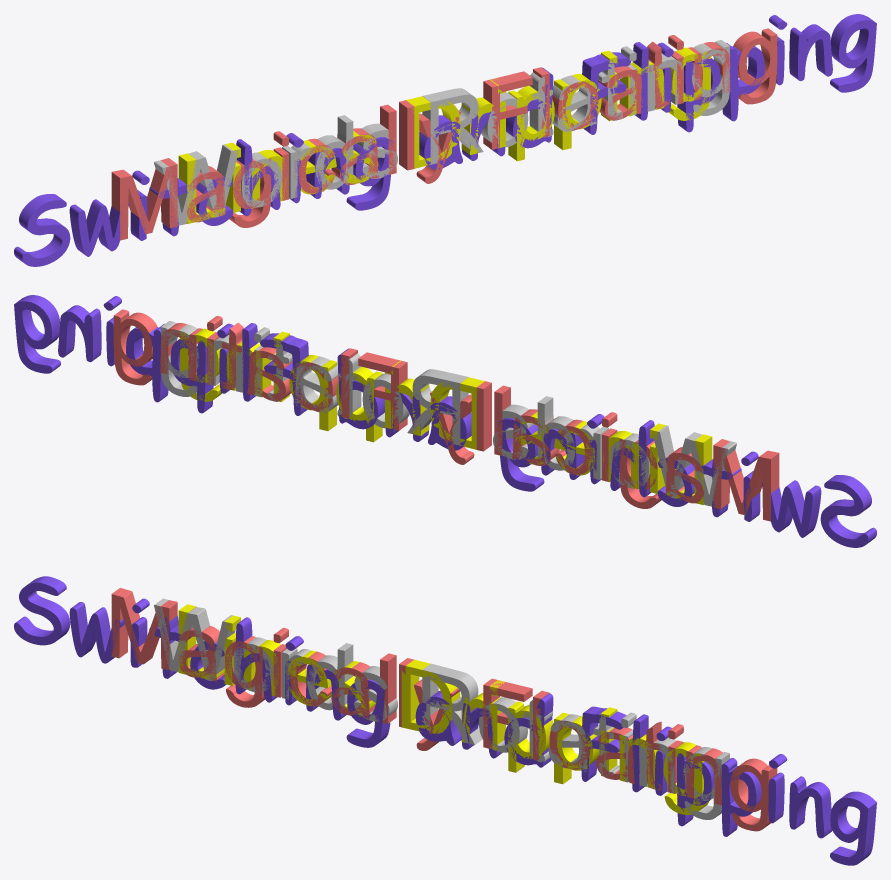
The model's file is mashedwords.glb.
The picture shows the model from 3 angles, top to bottom: view 1: azimuth 30°, elevation 25°; view 2: azimuth 150°, elevation 25°; view 3: azimuth 330°, elevation 25°; orthographic projection.
Parts seen in each view (by area): view 1: Node3, Node35, Node41, Node40, Node22, Node1, Node20, Node46, Node34, Node8, Node38, Node2 (+38 smaller); view 2: Node3, Node35, Node41, Node22, Node40, Node1, Node20, Node46, Node34, Node38, Node8, Node26 (+38 smaller); view 3: Node3, Node35, Node41, Node22, Node20, Node40, Node58, Node1, Node46, Node38, Node2, Node34 (+35 smaller).
Boxes of the visible parts, x1=… form: Node3: x1=111, y1=158, x2=177, y2=240; Node35: x1=830, y1=14, x2=876, y2=92; Node41: x1=14, y1=194, x2=70, y2=266; Node40: x1=69, y1=199, x2=128, y2=256; Node22: x1=154, y1=144, x2=238, y2=225; Node1: x1=733, y1=28, x2=777, y2=104; Node20: x1=422, y1=88, x2=483, y2=164; Node46: x1=789, y1=24, x2=832, y2=81; Node34: x1=346, y1=137, x2=393, y2=210; Node8: x1=483, y1=71, x2=532, y2=149; Node38: x1=722, y1=43, x2=764, y2=121; Node2: x1=229, y1=158, x2=271, y2=227; Node3: x1=713, y1=439, x2=779, y2=521; Node35: x1=14, y1=295, x2=60, y2=373; Node41: x1=820, y1=475, x2=876, y2=547; Node22: x1=652, y1=425, x2=736, y2=506; Node40: x1=762, y1=480, x2=821, y2=537; Node1: x1=113, y1=309, x2=157, y2=385; Node20: x1=407, y1=369, x2=468, y2=445; Node46: x1=58, y1=305, x2=101, y2=362; Node34: x1=498, y1=418, x2=544, y2=491; Node38: x1=126, y1=324, x2=168, y2=402; Node8: x1=358, y1=352, x2=407, y2=430; Node26: x1=295, y1=356, x2=338, y2=412; Node3: x1=111, y1=588, x2=177, y2=670; Node35: x1=830, y1=791, x2=876, y2=865; Node41: x1=14, y1=576, x2=70, y2=645; Node22: x1=154, y1=598, x2=235, y2=680; Node20: x1=422, y1=663, x2=482, y2=744; Node40: x1=69, y1=602, x2=124, y2=663; Node58: x1=401, y1=659, x2=460, y2=733; Node1: x1=730, y1=758, x2=777, y2=831; Node46: x1=789, y1=776, x2=832, y2=838; Node38: x1=721, y1=758, x2=761, y2=836; Node2: x1=225, y1=636, x2=265, y2=707; Node34: x1=346, y1=679, x2=390, y2=747.
Size of the model in its own units: 287 by 30.31 by 5.
